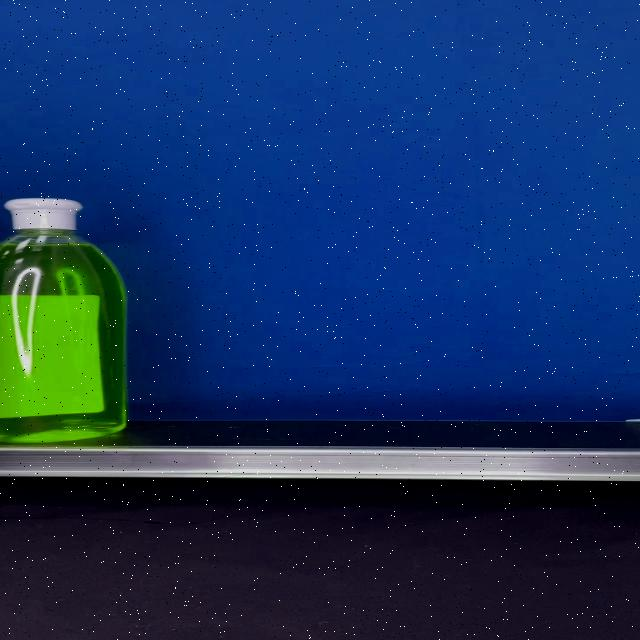Bottle: (0, 197, 127, 443)
Cap: (3, 198, 82, 230)
